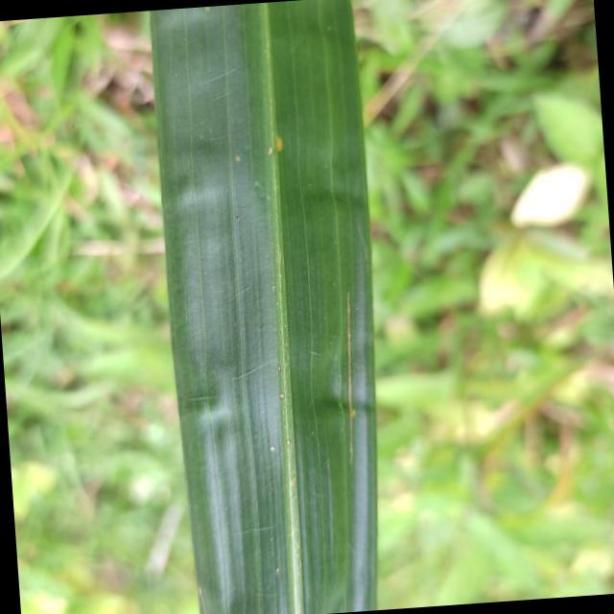Boron: (145, 3, 378, 614)
